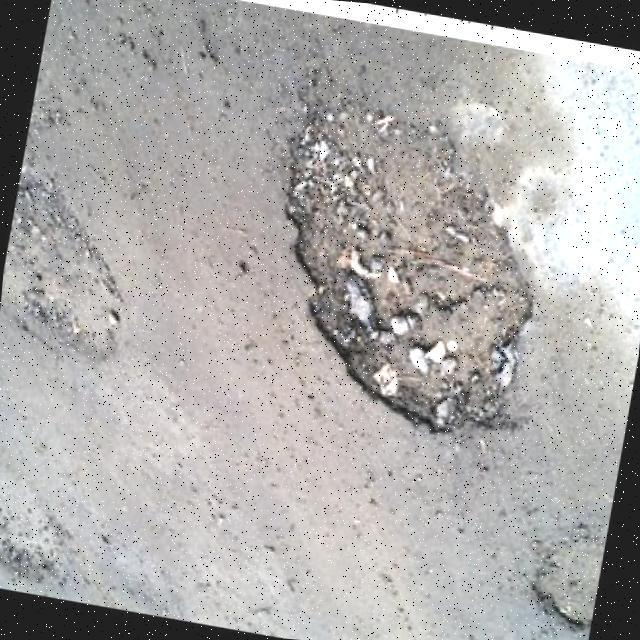Pothole: (283, 105, 533, 434)
